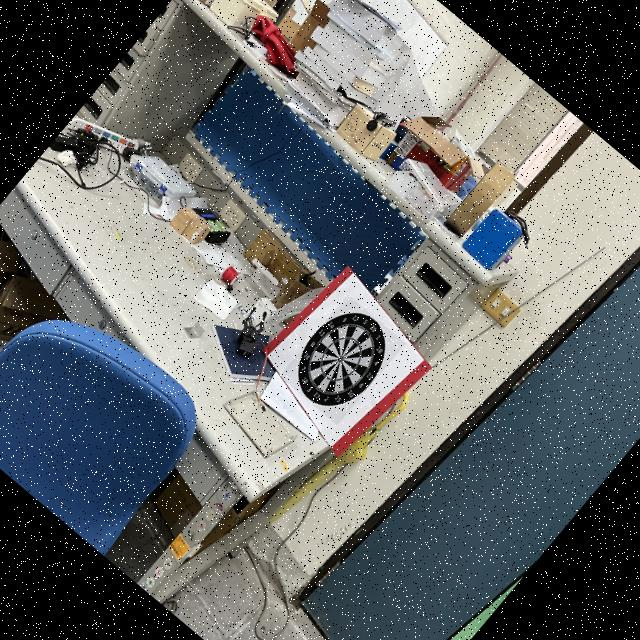archery-targets: (278, 294, 405, 425)
